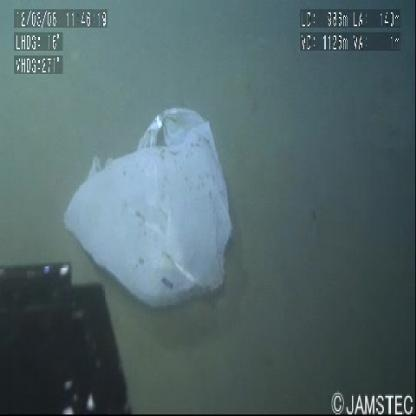Rov: (1, 262, 133, 413)
Rác: (51, 96, 238, 310)
